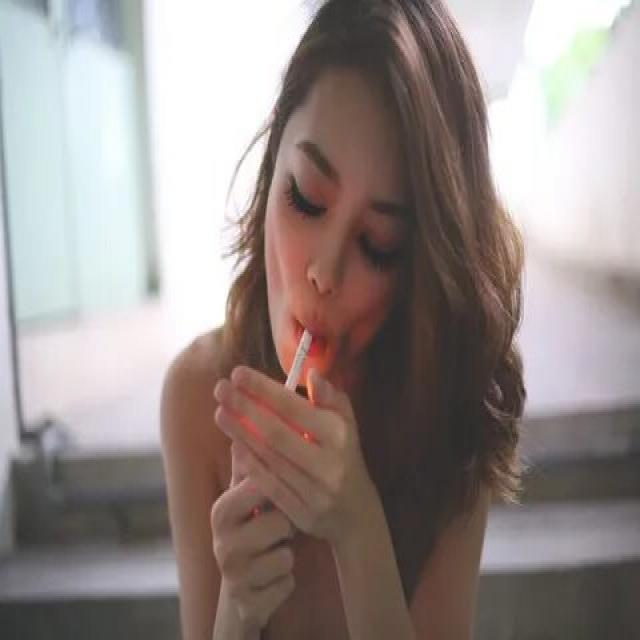smoke: (280, 324, 317, 400)
